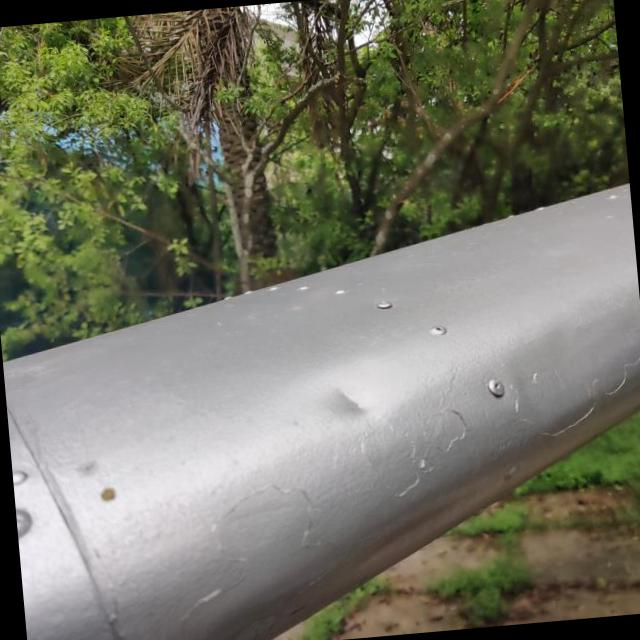Dent: (311, 364, 389, 438)
